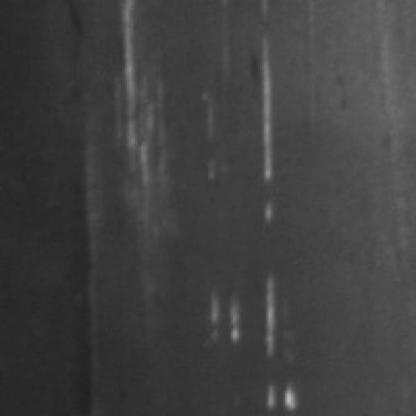scratches: (208, 266, 306, 410), (114, 0, 175, 177), (249, 31, 282, 220)
